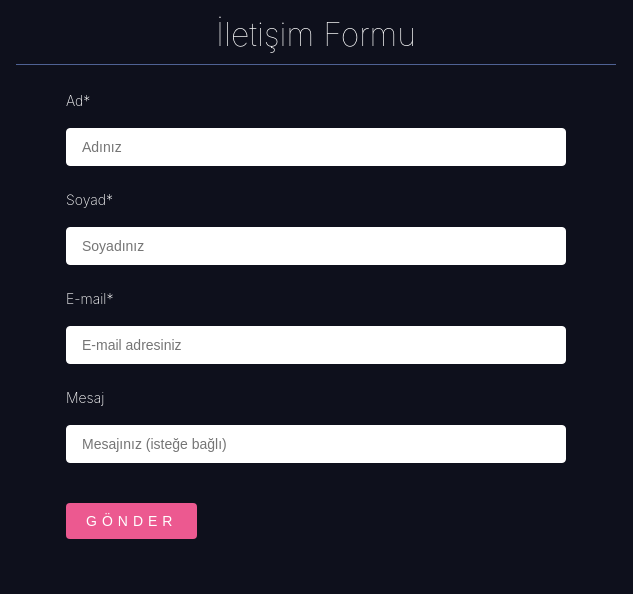
[7] soyad girilmeden gönderilirse "Hata: soyad gereklidir." mesajı render ediliyor
Type "Ömer Sabri" into the field with test id "name-input".
click(316, 147); type("Ömer Sabri")  # box [66,128,566,166]
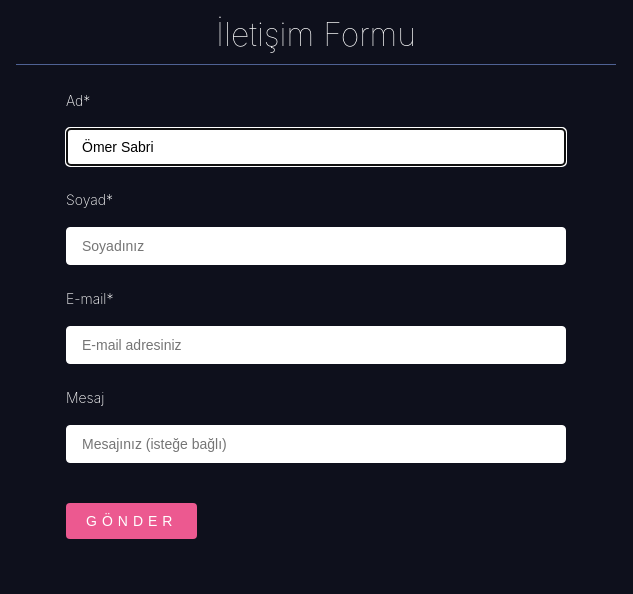
Type "omersabribalci@gmail.com" into the field with test id "email-input".
click(316, 345); type("omersabribalci@gmail.com")  # box [66,326,566,364]
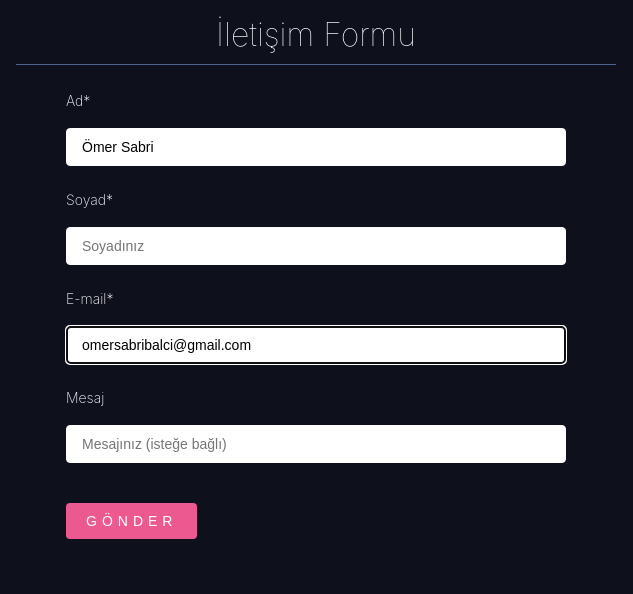
Click the button.
click(132, 521)  # box [66,503,198,539]
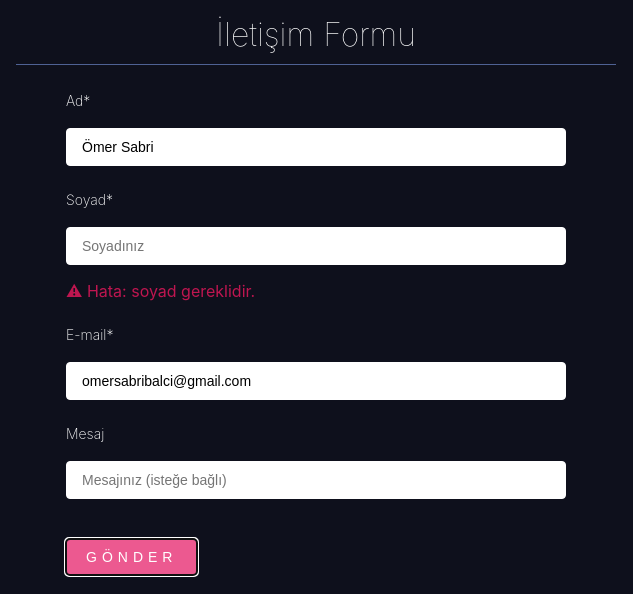
Expected: the text "Hata: soyad gereklidir." is shown, [87,281,255,301]
